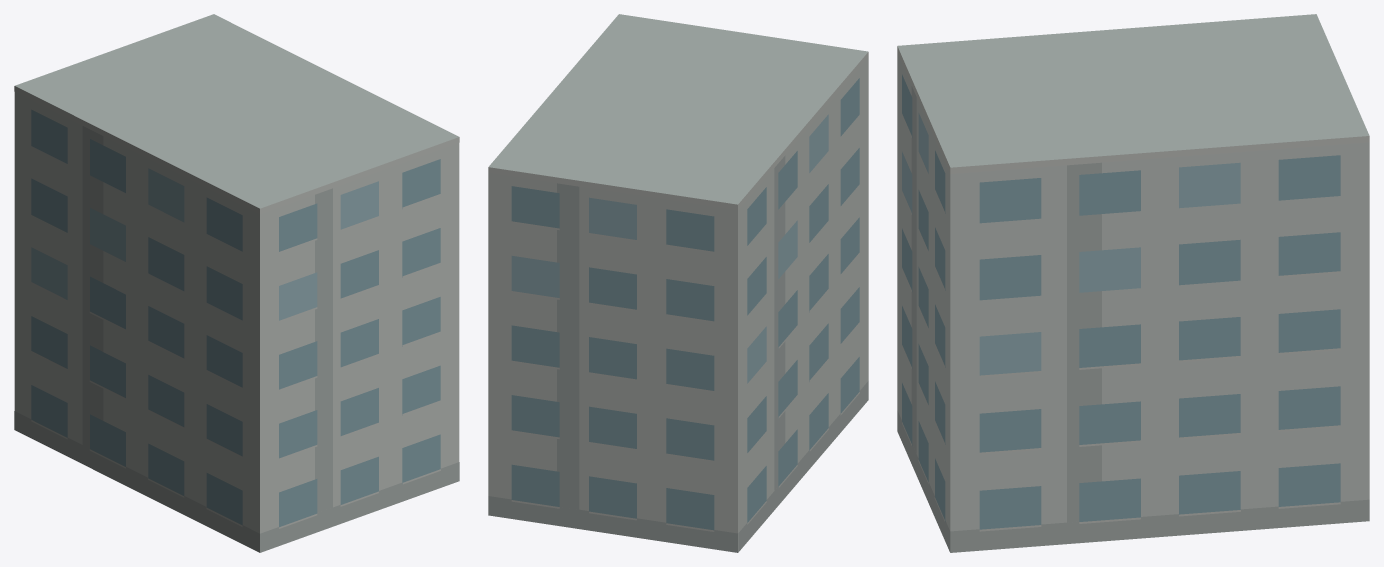
File: survey-upis-32877405.glb
The picture shows the model from 3 angles, left to right: view 1: azimuth 30°, elevation 25°; view 2: azimuth 150°, elevation 25°; view 3: azimuth 270°, elevation 25°; orthographic projection. The views are drawn at different scales.
Parts seen in each view (by area): view 1: survey-upis-32877405.tmp; view 2: survey-upis-32877405.tmp; view 3: survey-upis-32877405.tmp.
Boxes of the visible parts, <box> form: survey-upis-32877405.tmp: <box>14,14,459,552</box>; survey-upis-32877405.tmp: <box>488,14,868,552</box>; survey-upis-32877405.tmp: <box>897,14,1369,552</box>.
Size of the model in its own units: 12.28 by 14.35 by 15.96.
